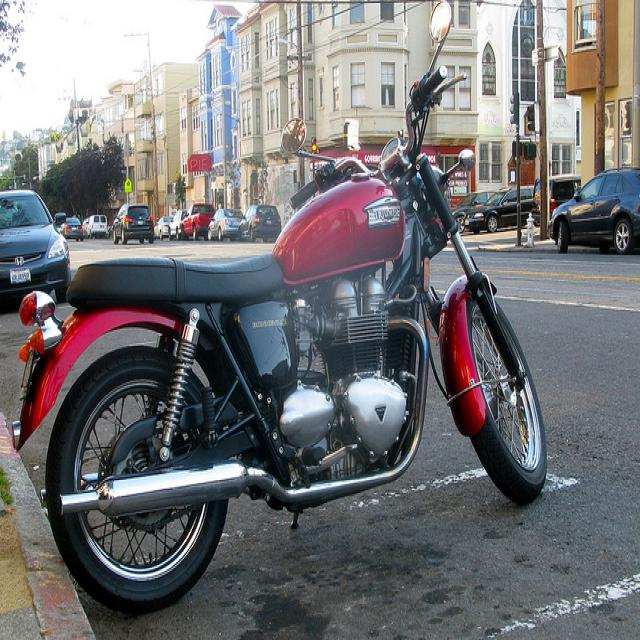motor: (6, 2, 558, 617)
